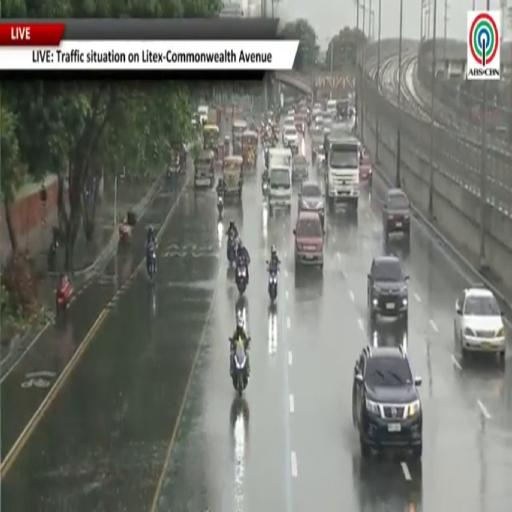car: (352, 346, 422, 458), (454, 287, 506, 361), (367, 255, 408, 326), (294, 212, 324, 267), (382, 188, 410, 241), (298, 181, 324, 228), (310, 128, 324, 164), (292, 155, 308, 181), (283, 125, 298, 152), (360, 153, 372, 184), (283, 116, 294, 129)
jeepney: (223, 156, 242, 198), (194, 150, 215, 187), (242, 131, 258, 171), (232, 120, 247, 155)
motorcycle: (231, 338, 248, 396), (56, 280, 73, 315), (236, 265, 248, 294), (268, 268, 278, 301), (48, 240, 58, 271), (147, 247, 156, 281), (227, 234, 236, 266), (217, 196, 224, 217), (262, 179, 268, 196)
truck: (325, 135, 360, 211), (269, 149, 292, 213)
